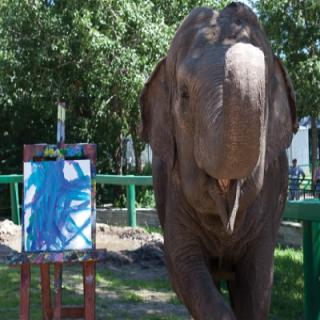Elephant: (137, 1, 300, 320)
